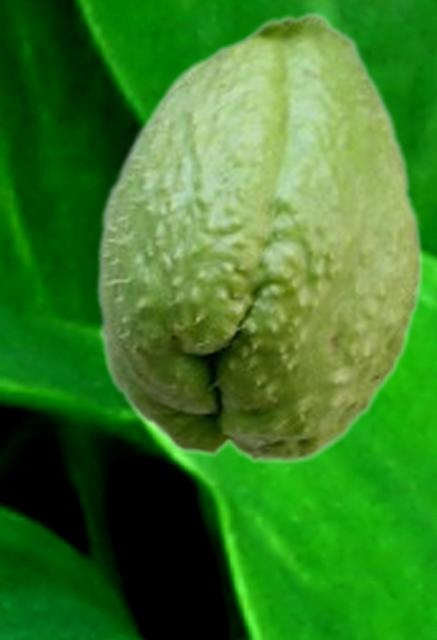sayote: (95, 9, 425, 465)
